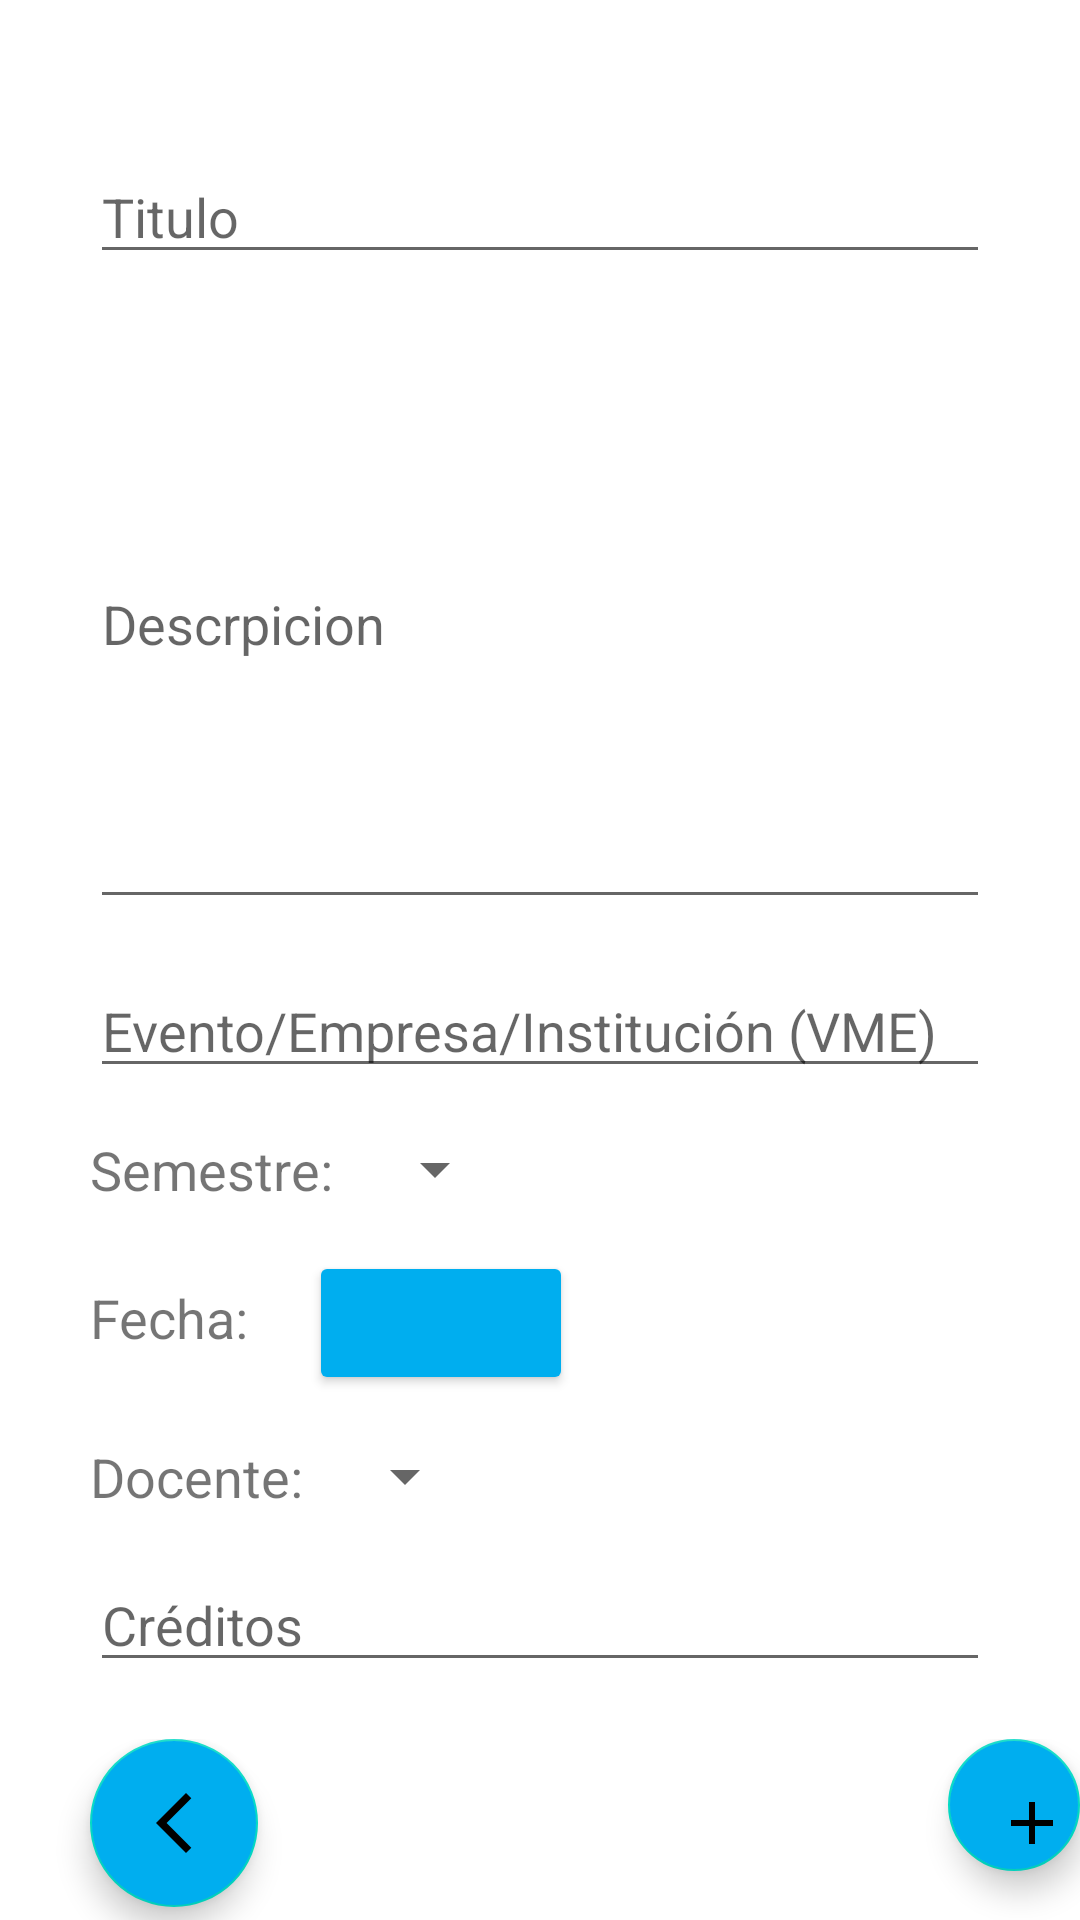

Where to tap for icons on this 1080px x 1920px app screen, as (x,y):
add: (1014,1805)
volver: (174,1823)
